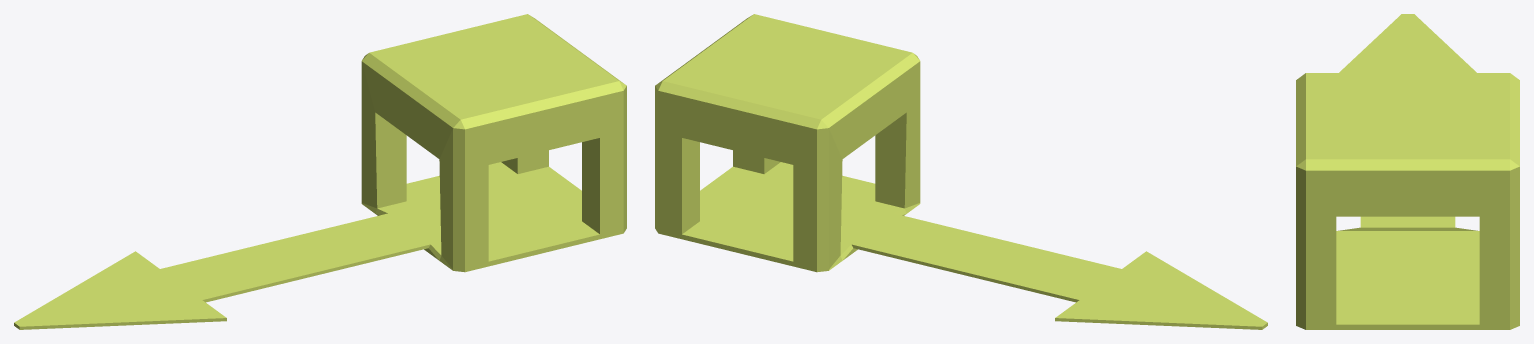
File: Switch.fbx
The picture shows the model from 3 angles, left to right: view 1: azimuth 30°, elevation 25°; view 2: azimuth 150°, elevation 25°; view 3: azimuth 270°, elevation 25°; orthographic projection. The views are drawn at different scales.
Visible parts, largest first — view 1: Switch; view 2: Switch; view 3: Switch.
Part boxes in pixels (x1,y1,x2,y2): Switch: (14, 14, 626, 329); Switch: (655, 14, 1267, 329); Switch: (1296, 14, 1519, 329).
Bounding box in the file's own units: 363 × 91.93 × 112.
